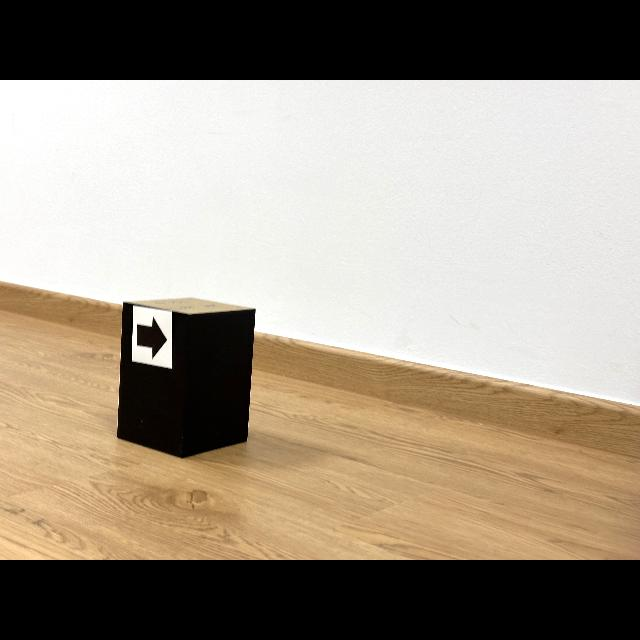RIGHT: (136, 318, 168, 358)
